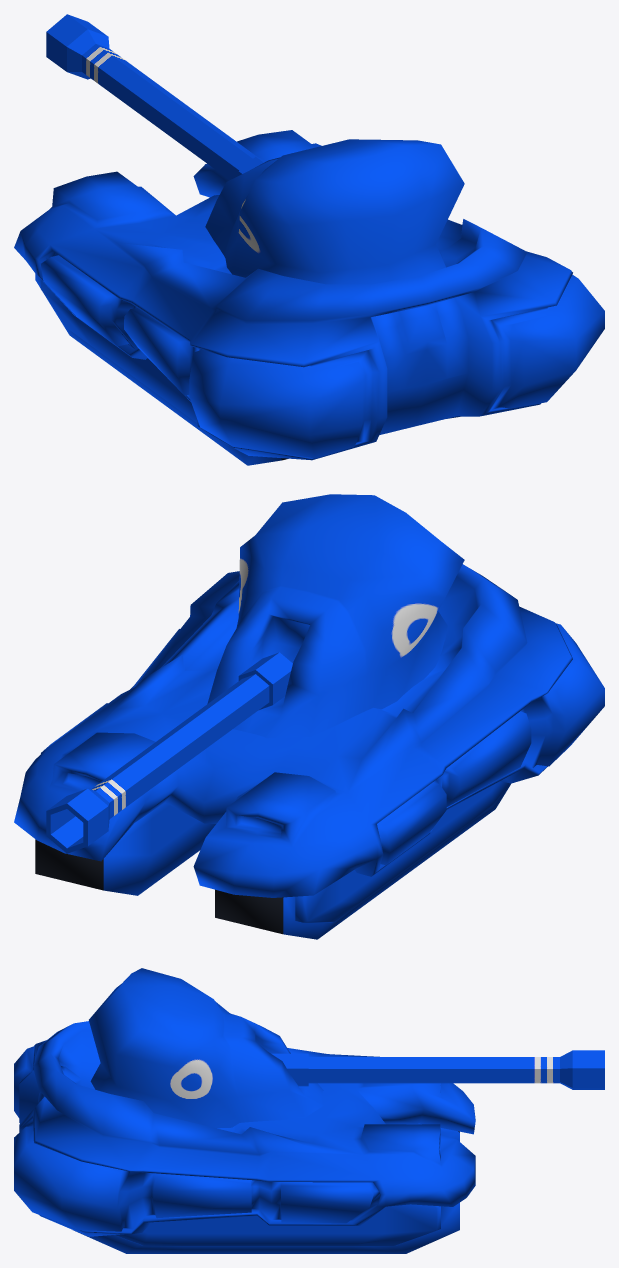
Rendered from tank_01.fbx.
3 views of the same model, one above another, from view 1: azimuth 30°, elevation 25°; view 2: azimuth 150°, elevation 25°; view 3: azimuth 270°, elevation 25° (orthographic). The views are drawn at different scales.
Parts seen in each view (by area): view 1: Cube, Cube.002, Cube.003; view 2: Cube, Cube.002, Cube.003; view 3: Cube, Cube.002, Cube.003.
Part boxes in pixels (box(x1,y1,x2,y2)): Cube: box(14, 130, 604, 465); Cube.002: box(205, 139, 464, 284); Cube.003: box(46, 14, 266, 179); Cube: box(14, 564, 604, 939); Cube.002: box(207, 494, 464, 738); Cube.003: box(46, 652, 292, 853); Cube: box(14, 1021, 475, 1253); Cube.002: box(89, 968, 323, 1128); Cube.003: box(271, 1050, 604, 1089).
Bounding box in the file's own units: 1944 × 1361 × 3291.
